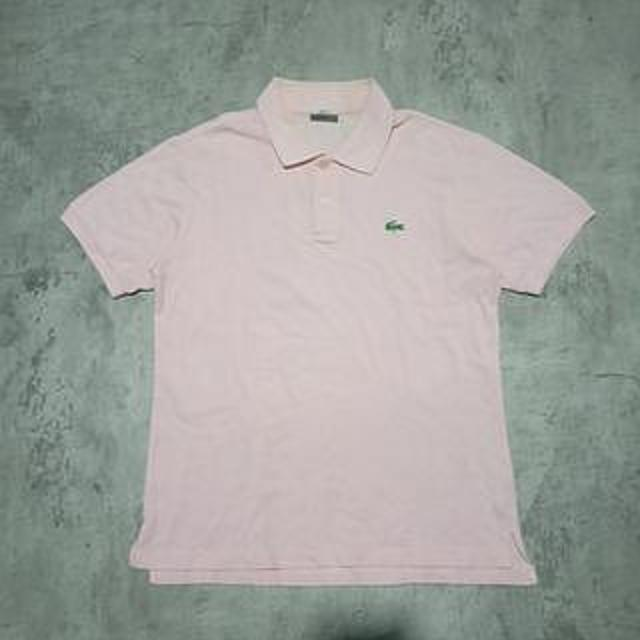T_SHIRT: (43, 75, 612, 601)
